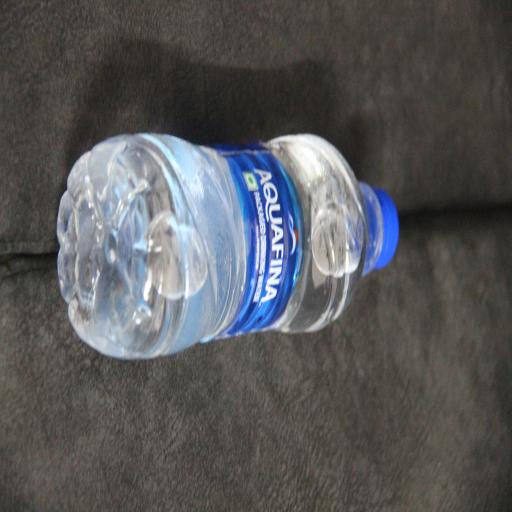Aquafina: (89, 170, 236, 512)
